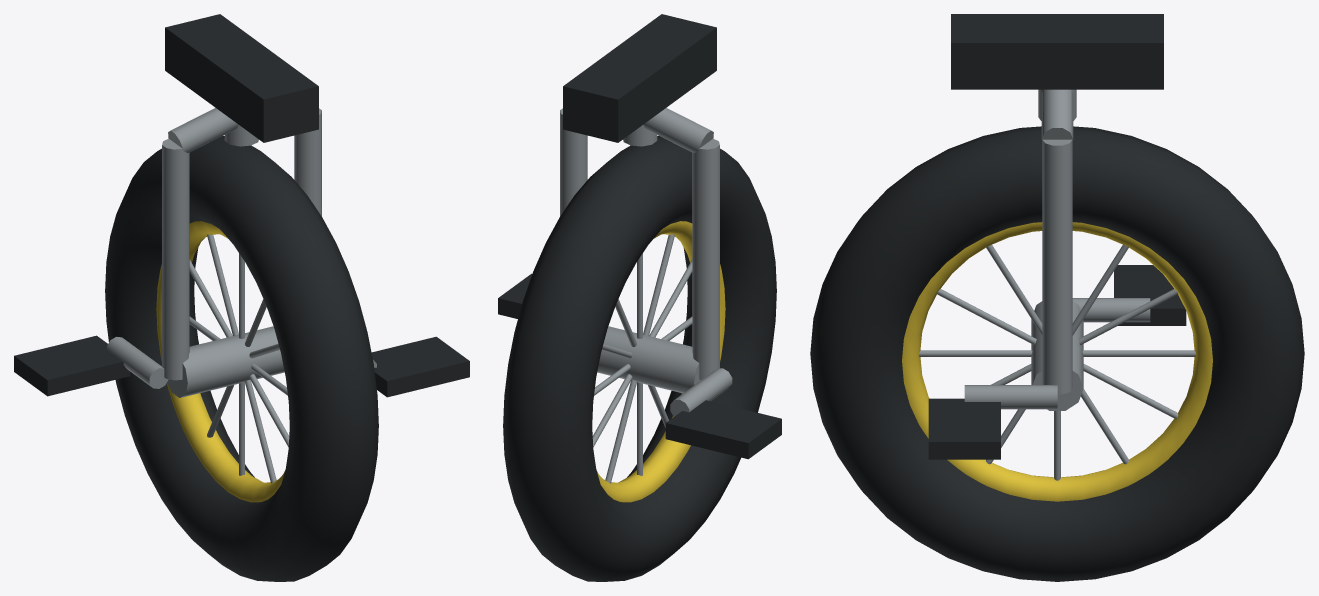
The model's file is unicycle.glb.
The picture shows the model from 3 angles, left to right: view 1: azimuth 30°, elevation 25°; view 2: azimuth 150°, elevation 25°; view 3: azimuth 270°, elevation 25°; orthographic projection. The views are drawn at different scales.
Parts seen in each view (by area): view 1: unicycle.wheel, seat-cushion, unicycle, pedal.platform (×2), unicycle.crank.-1; view 2: unicycle.wheel, seat-cushion, unicycle, pedal.platform (×2), unicycle.crank.-1; view 3: unicycle.wheel, seat-cushion, unicycle, pedal.platform (×2), unicycle.crank.1, unicycle.crank.-1.
Part boxes in pixels (bbox=[...]): unicycle.wheel: bbox=[105, 135, 378, 581]; seat-cushion: bbox=[165, 14, 318, 142]; unicycle: bbox=[162, 108, 321, 380]; pedal.platform (×2): bbox=[14, 335, 469, 397]; unicycle.crank.-1: bbox=[107, 336, 168, 388]; unicycle.wheel: bbox=[503, 135, 776, 581]; seat-cushion: bbox=[563, 14, 716, 142]; unicycle: bbox=[560, 108, 719, 379]; pedal.platform (×2): bbox=[498, 273, 781, 459]; unicycle.crank.-1: bbox=[670, 368, 732, 416]; unicycle.wheel: bbox=[810, 126, 1304, 581]; seat-cushion: bbox=[951, 14, 1163, 89]; unicycle: bbox=[1038, 89, 1076, 394]; pedal.platform (×2): bbox=[928, 265, 1186, 459]; unicycle.crank.1: bbox=[964, 385, 1057, 409]; unicycle.crank.-1: bbox=[1072, 298, 1150, 322].
Bounding box in the file's own units: 0.61 × 0.8825 × 0.72.
